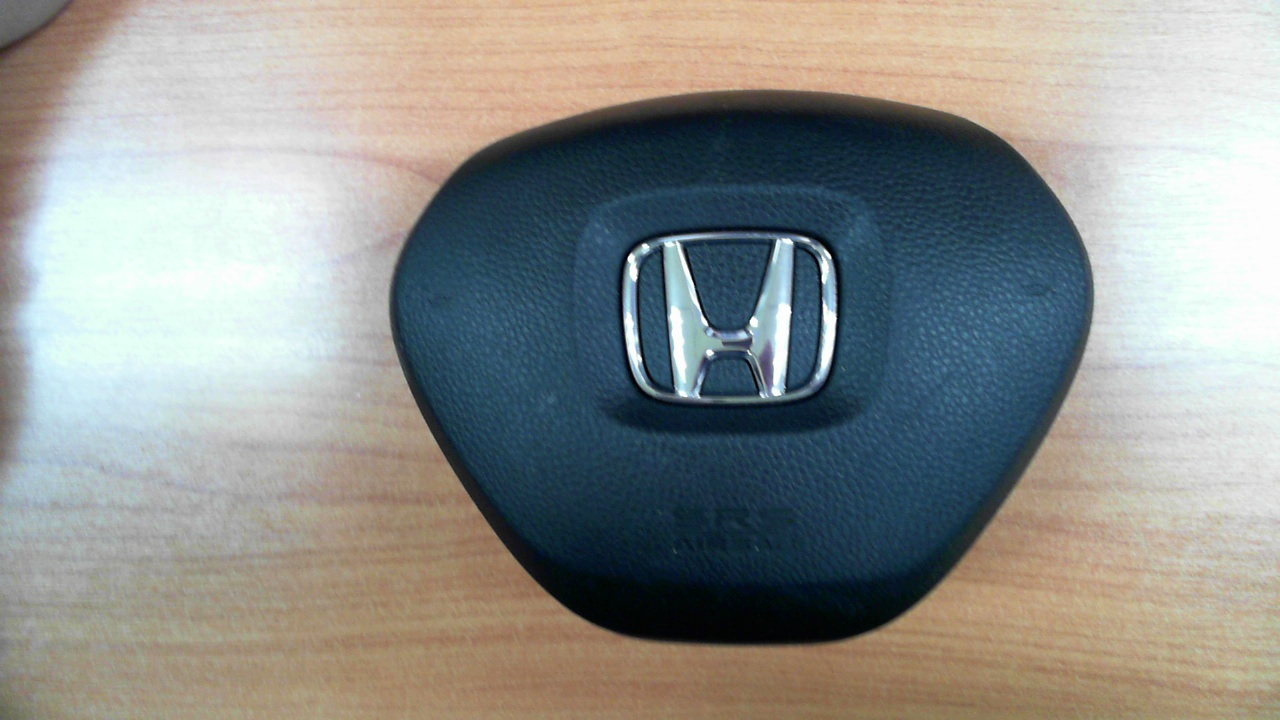Airbag: (388, 91, 1094, 647)
